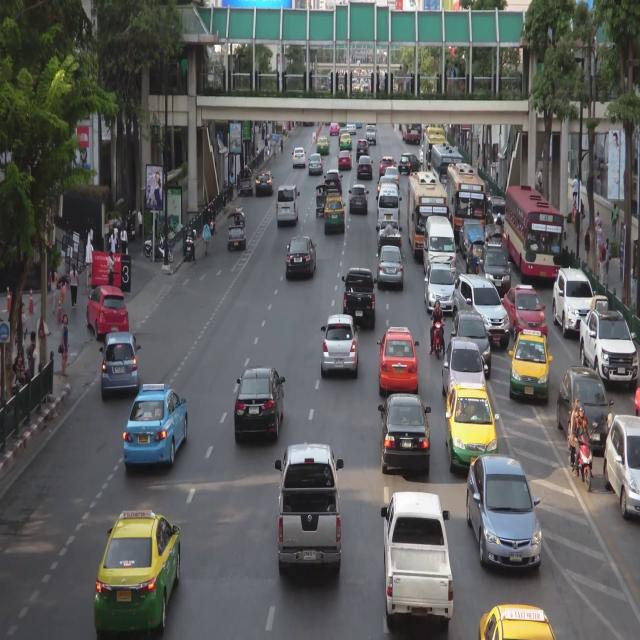bus: (505, 184, 562, 280), (407, 171, 450, 261), (451, 167, 488, 248), (432, 147, 463, 208), (424, 130, 448, 188), (402, 122, 421, 144)
car: (381, 488, 452, 621), (278, 443, 341, 577), (469, 460, 540, 570), (581, 307, 637, 389), (560, 366, 612, 453), (453, 273, 512, 346), (379, 397, 430, 477), (605, 416, 640, 519), (235, 374, 282, 438), (555, 268, 598, 337), (444, 344, 485, 405), (455, 312, 490, 375), (101, 333, 137, 393), (88, 289, 130, 340), (323, 316, 358, 374), (344, 267, 375, 326), (426, 220, 456, 277), (425, 264, 455, 313), (483, 245, 510, 291), (288, 236, 316, 278), (377, 187, 400, 230), (378, 247, 403, 285), (461, 219, 487, 254), (276, 187, 299, 224), (378, 222, 402, 256), (228, 210, 246, 249), (469, 235, 486, 273), (488, 192, 504, 229), (350, 184, 368, 213), (398, 153, 420, 172), (256, 171, 274, 193), (379, 176, 396, 198), (326, 171, 342, 194), (489, 225, 503, 251), (316, 186, 329, 214), (385, 167, 400, 191), (358, 154, 373, 178), (379, 155, 396, 176), (240, 168, 253, 194), (310, 155, 323, 174), (357, 138, 368, 160), (338, 153, 352, 170), (365, 126, 377, 145), (293, 148, 305, 166), (346, 123, 356, 132), (340, 128, 348, 139)
pedestrian: (60, 313, 69, 378), (69, 261, 78, 311), (27, 331, 36, 377), (50, 266, 58, 314), (599, 241, 607, 287), (107, 251, 115, 288), (202, 221, 210, 258), (120, 225, 128, 257), (584, 226, 590, 267), (60, 274, 67, 309), (604, 237, 609, 278), (611, 203, 617, 236), (597, 222, 601, 268), (573, 173, 578, 206), (138, 206, 143, 239), (109, 229, 115, 255), (581, 197, 585, 236), (595, 210, 600, 237), (223, 179, 227, 209), (229, 172, 233, 200), (538, 168, 543, 190), (273, 143, 277, 164), (280, 135, 284, 153), (265, 135, 268, 156), (268, 138, 271, 156), (269, 135, 272, 153), (262, 126, 265, 143), (256, 148, 259, 157)
taxi: (97, 509, 179, 634), (124, 384, 191, 468), (445, 384, 499, 472), (509, 331, 553, 399), (478, 604, 558, 640), (501, 280, 547, 341), (379, 331, 421, 390), (324, 193, 345, 232), (318, 137, 330, 153), (341, 135, 352, 149), (330, 123, 339, 136)
